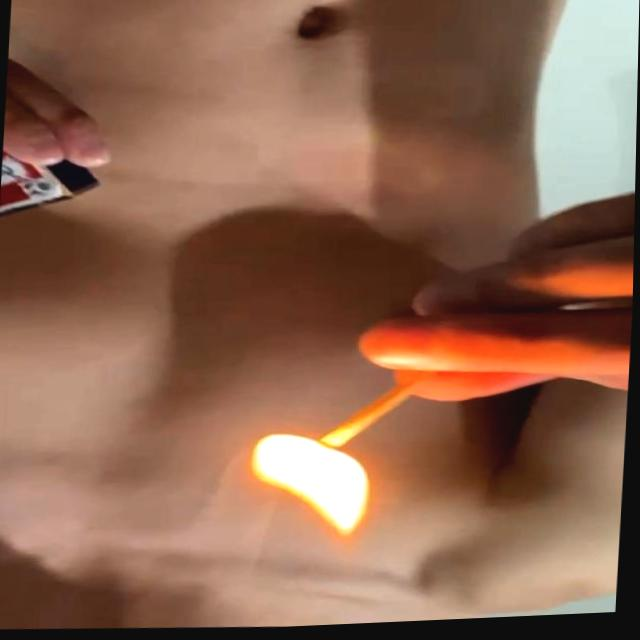helmet: (232, 418, 380, 561)
